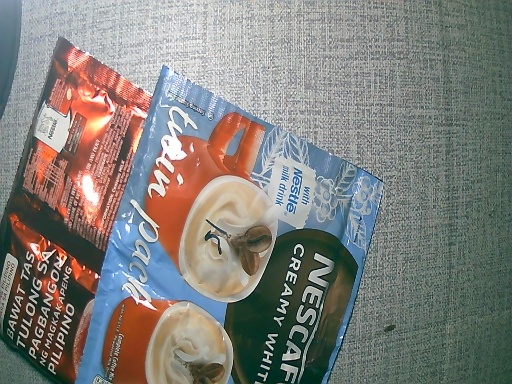plastic: (78, 63, 417, 384), (1, 37, 160, 381)
